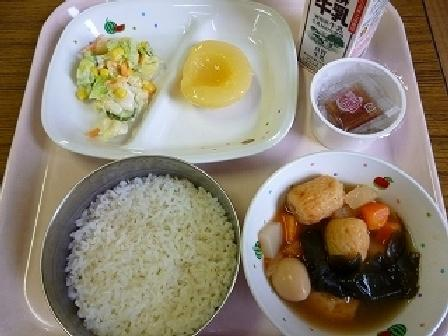Milk: (293, 0, 389, 61)
Rice: (36, 152, 241, 330)
Salad: (63, 31, 163, 133)
peach: (177, 33, 263, 122)
vegetable soup: (245, 167, 444, 329)
